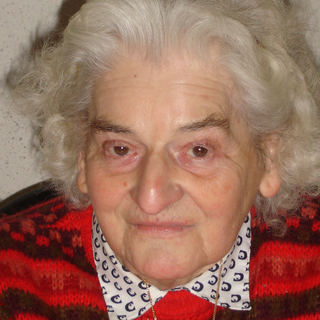eye: (91, 135, 144, 166), (174, 138, 221, 162)
